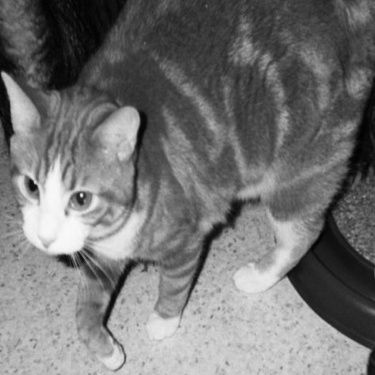cat: (1, 1, 370, 369)
